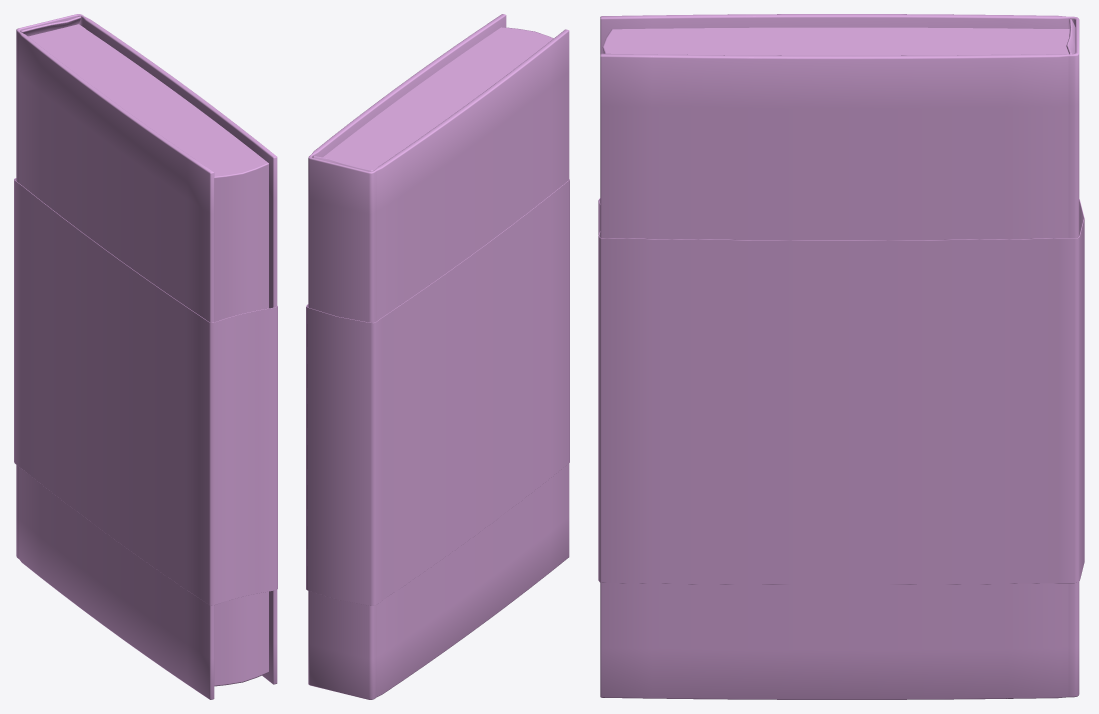
Rendered from buch.glb.
3 renders of one model, left to right at view 1: azimuth 30°, elevation 25°; view 2: azimuth 150°, elevation 25°; view 3: azimuth 270°, elevation 25°, orthographic. The views are drawn at different scales.
Parts seen in each view (by area): view 1: Leather Book; view 2: Leather Book; view 3: Leather Book.
Boxes of the visible parts, <box> form: Leather Book: <box>14,14,277,699</box>; Leather Book: <box>306,14,569,699</box>; Leather Book: <box>598,14,1084,699</box>.
Bounding box in the file's own units: 0.0363 × 0.241 × 0.1652.
